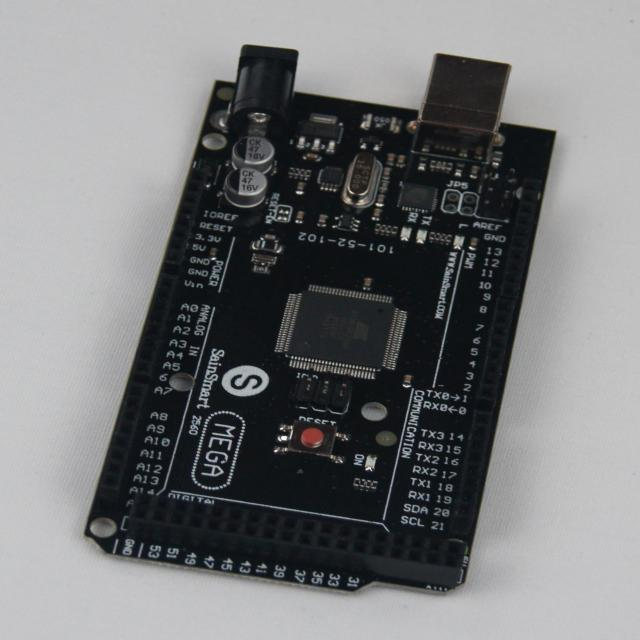Arduino Mega 2560 -Black-: (86, 47, 554, 592)
